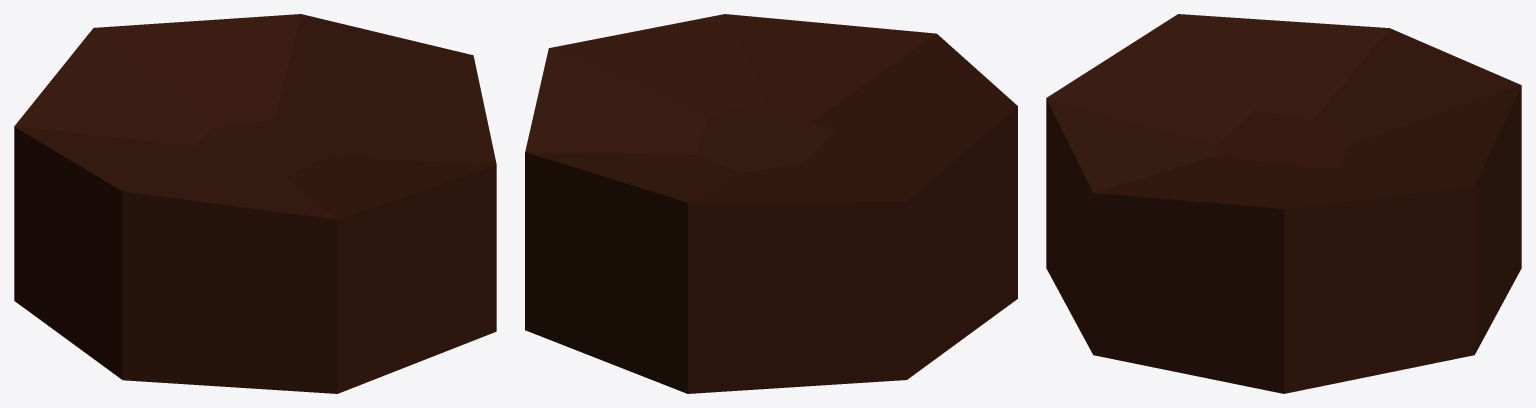
File: evergreentrunk.FBX
3 views of the same model, side by side, from view 1: azimuth 30°, elevation 25°; view 2: azimuth 150°, elevation 25°; view 3: azimuth 270°, elevation 25° (orthographic). The views are drawn at different scales.
Parts seen in each view (by area): view 1: Cylinder003; view 2: Cylinder003; view 3: Cylinder003.
Boxes of the visible parts, x1,y1,x2,y2 form: Cylinder003: (14, 14, 496, 393); Cylinder003: (525, 14, 1017, 393); Cylinder003: (1046, 14, 1521, 393).
Size of the model in its own units: 38.02 by 39 by 16.65.
